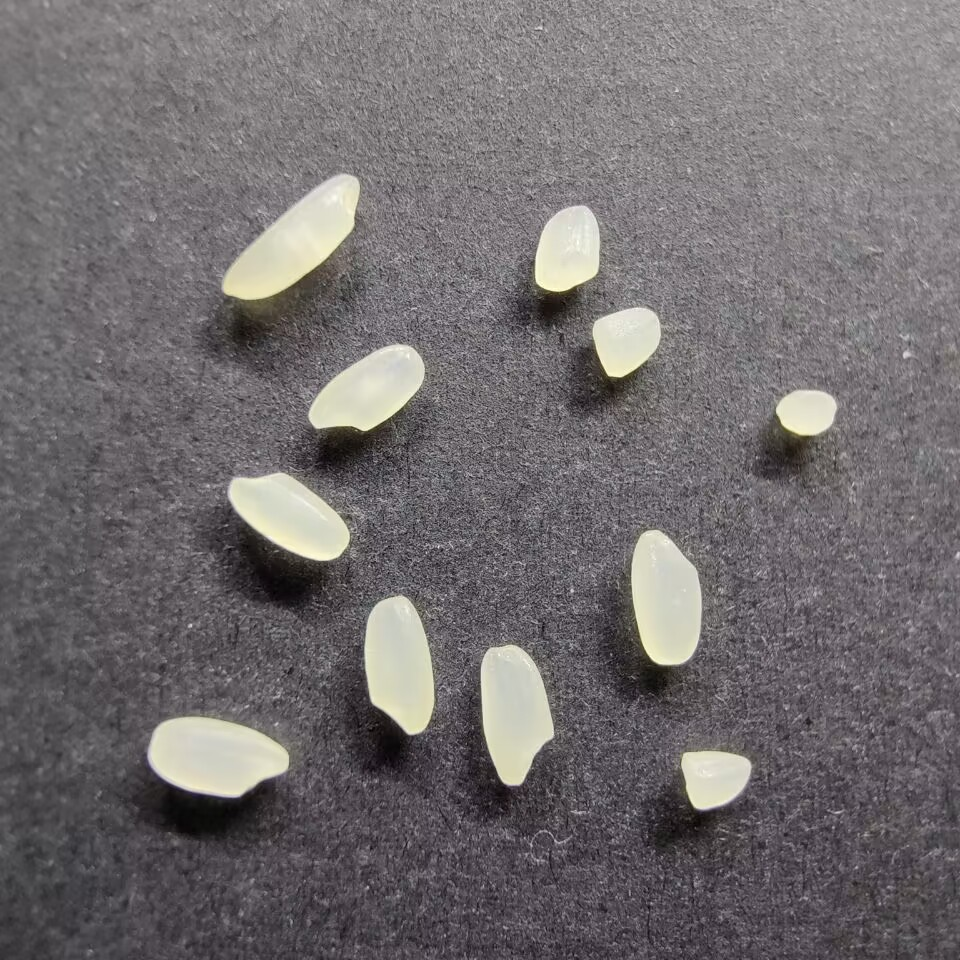broken: (530, 203, 603, 292), (590, 305, 663, 378), (679, 748, 753, 812), (775, 386, 839, 436)
rice: (218, 172, 362, 301), (145, 716, 291, 798), (223, 471, 352, 563), (476, 641, 555, 788), (307, 342, 425, 431), (629, 528, 703, 667), (363, 594, 434, 736)
